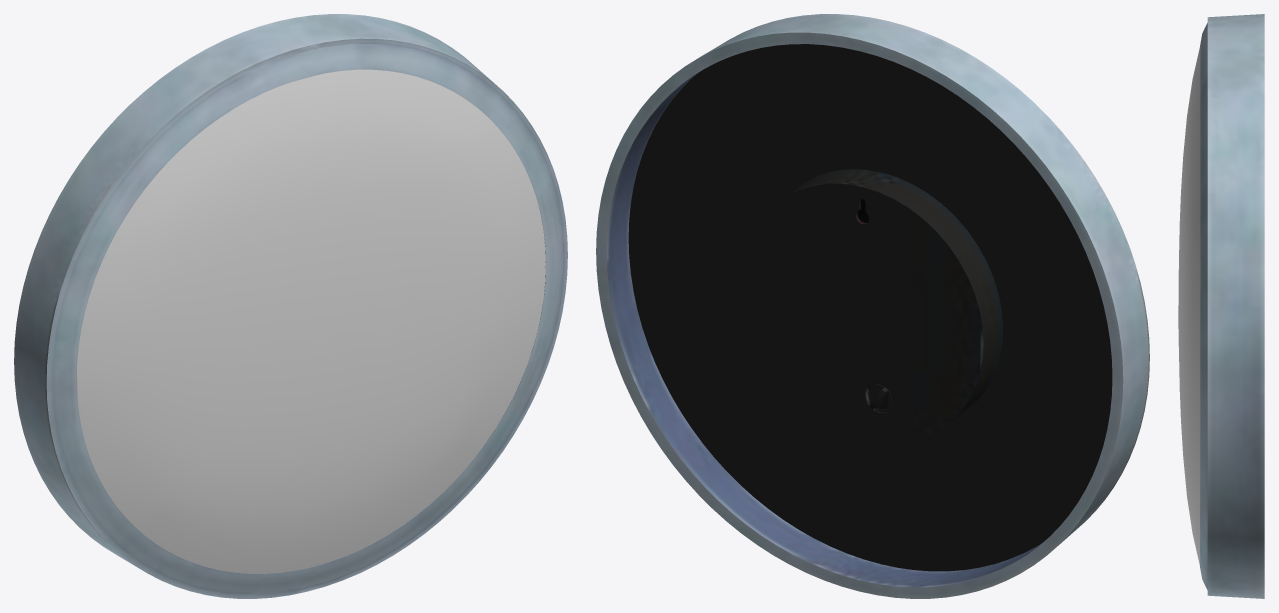
Rendered from wall_clock.glb.
The picture shows the model from 3 angles, left to right: view 1: azimuth 30°, elevation 25°; view 2: azimuth 150°, elevation 25°; view 3: azimuth 270°, elevation 25°; orthographic projection. The views are drawn at different scales.
Parts seen in each view (by area): view 1: wall_clock; view 2: wall_clock; view 3: wall_clock.
Boxes of the visible parts, box(x1,y1,x2,y2) form: wall_clock: box(14, 14, 567, 598); wall_clock: box(596, 14, 1149, 598); wall_clock: box(1178, 14, 1264, 598).
Size of the model in its own units: 0.3205 by 0.3205 by 0.0472.
1 material, 1 textured.
